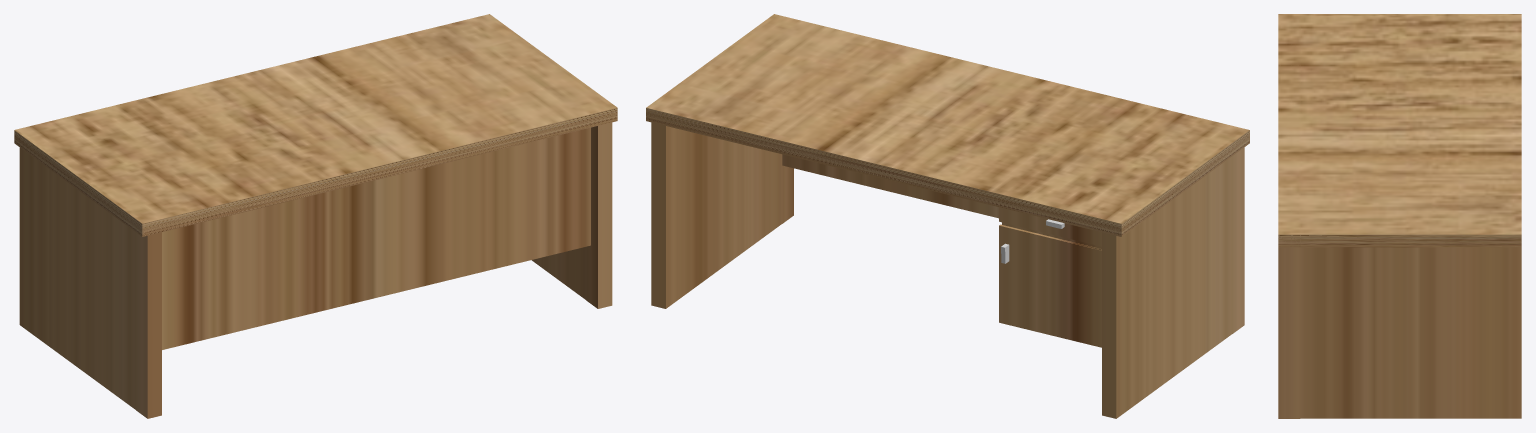
The model's file is meja3cklt.glb.
3 renders of one model, left to right at view 1: azimuth 30°, elevation 25°; view 2: azimuth 150°, elevation 25°; view 3: azimuth 270°, elevation 25°, orthographic. The views are drawn at different scales.
Visible parts, largest first — view 1: Cube; view 2: Cube, Cube.001; view 3: Cube.
Part boxes in pixels (x1,y1,x2,y2): Cube: (14, 14, 617, 418); Cube: (646, 14, 1249, 418); Cube.001: (999, 207, 1101, 347); Cube: (1278, 14, 1521, 418).
Size of the model in its own units: 3.68 by 1.45 by 1.72.
Materials: 2 (2 with a texture image).
